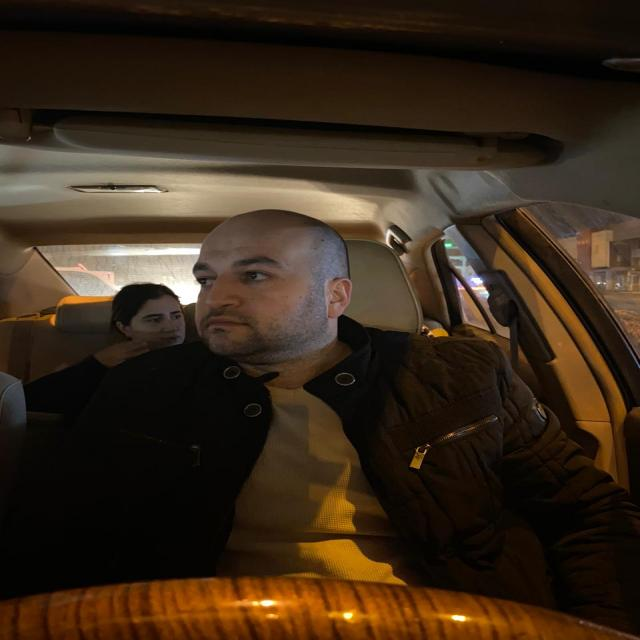person: (184, 227, 352, 356), (104, 284, 194, 346)
